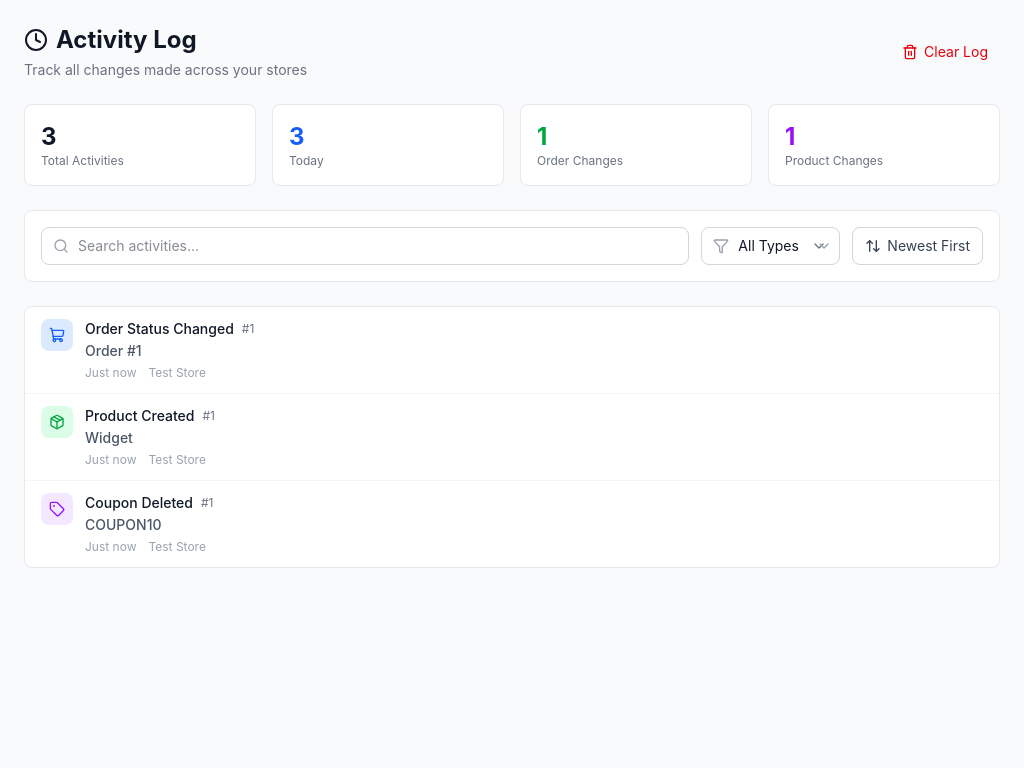
Test: ActivityLogPage › filtering › shows no-match message when filter returns empty
Type "nonexistent" into the field with placeholder "Search activities..." at (365, 246), box [41,227,689,265]
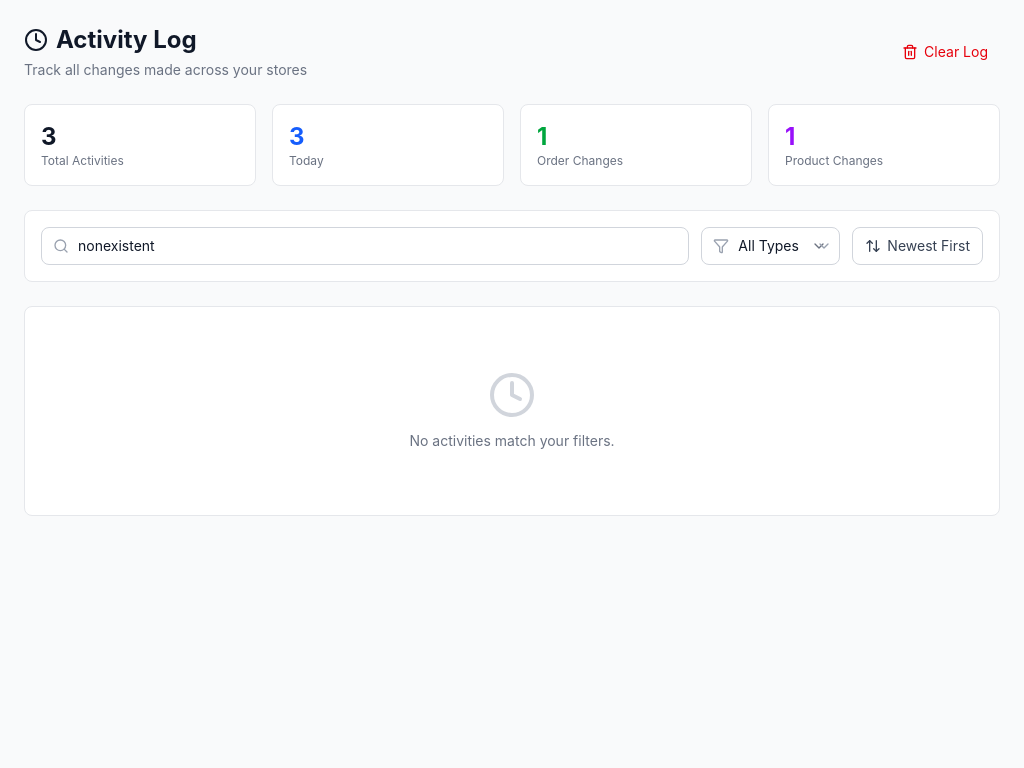
Result: the text "No activities match your filters." is shown at [409,432,615,449]
